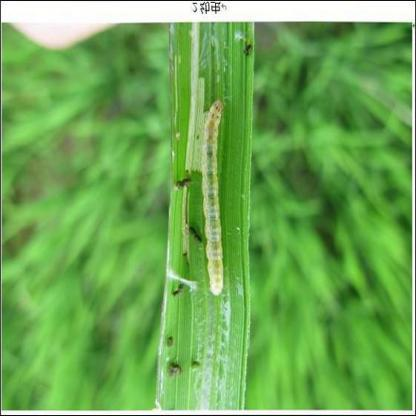leaf-folder: (188, 80, 235, 306)
